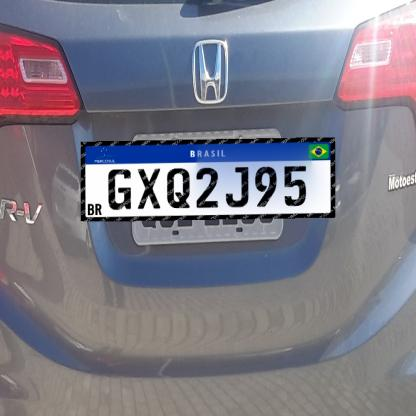PlacaM: (81, 138, 335, 222)
